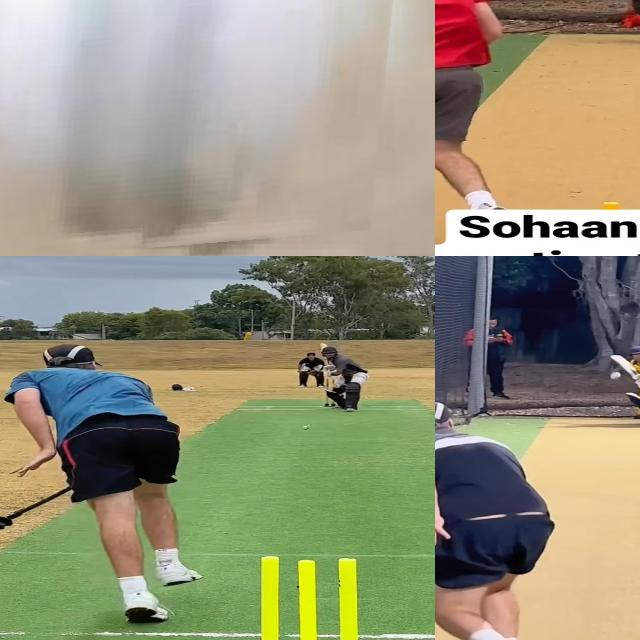Cricket ball: (0, 0, 419, 256), (609, 372, 622, 380), (301, 425, 314, 431)
Stumps: (241, 553, 382, 640)
